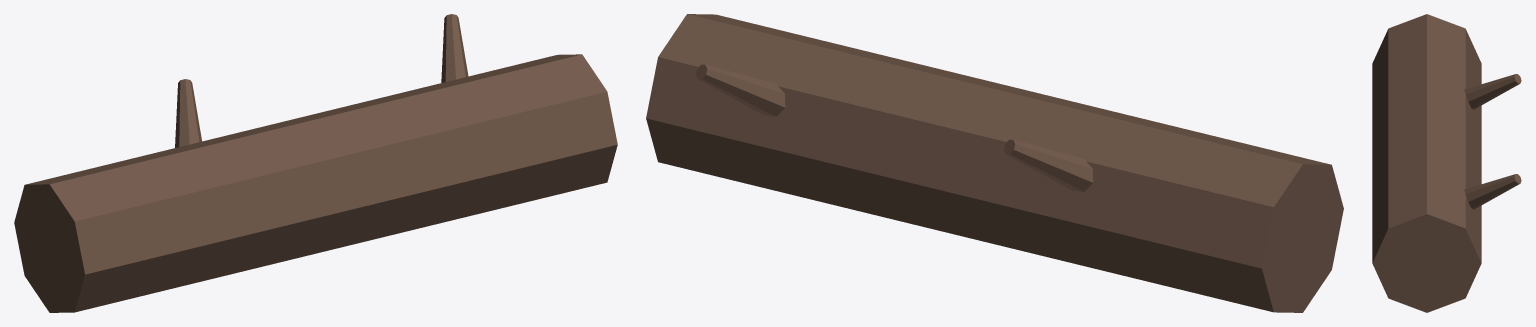
The model's file is SH10_L02_FallenLog.fbx.
3 views of the same model, side by side, from view 1: azimuth 30°, elevation 25°; view 2: azimuth 150°, elevation 25°; view 3: azimuth 270°, elevation 25° (orthographic). The views are drawn at different scales.
Parts seen in each view (by area): view 1: SH10_L02_FallenLog; view 2: SH10_L02_FallenLog; view 3: SH10_L02_FallenLog.
Part boxes in pixels (x1,y1,x2,y2): SH10_L02_FallenLog: (14,14,617,312); SH10_L02_FallenLog: (646,14,1343,312); SH10_L02_FallenLog: (1372,14,1521,312).
Bounding box in the file's own units: 260 × 67.54 × 81.96.
